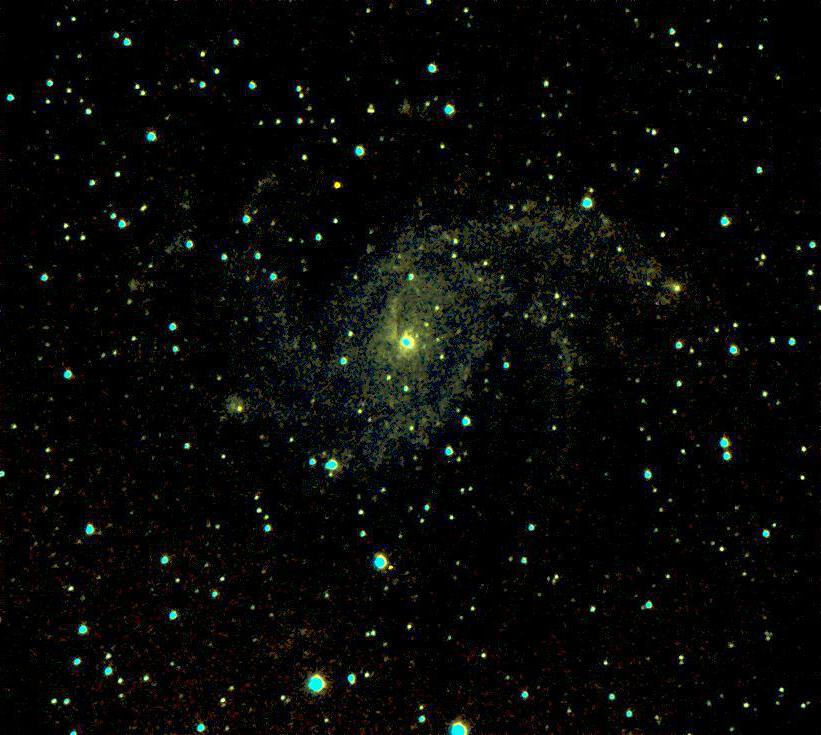star: (321, 177, 351, 207)
